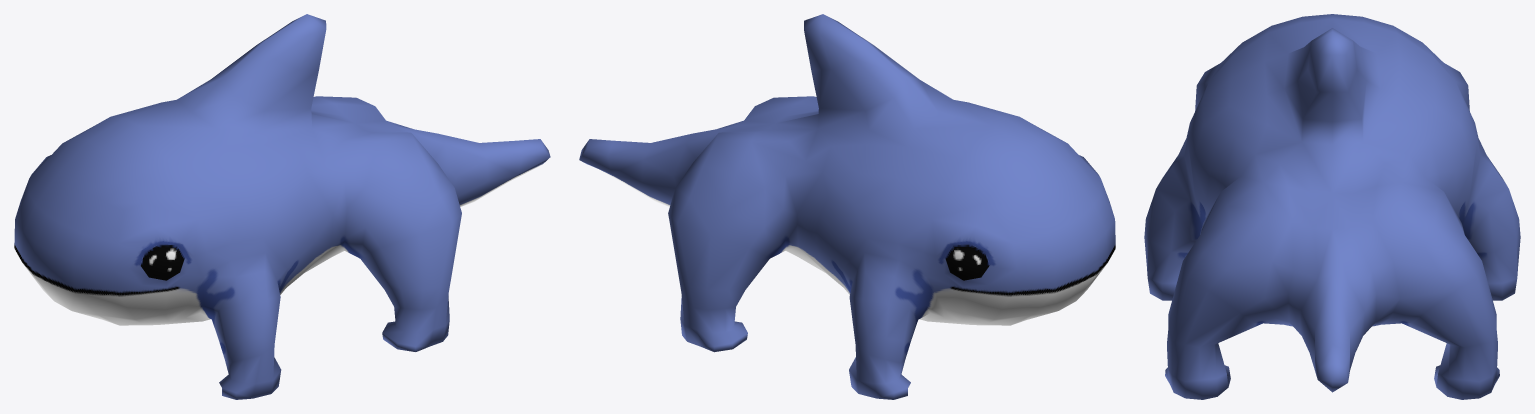
The model's file is dirtshoggy.fbx.
3 views of the same model, side by side, from view 1: azimuth 30°, elevation 25°; view 2: azimuth 150°, elevation 25°; view 3: azimuth 270°, elevation 25° (orthographic). The views are drawn at different scales.
Visible parts, largest first — view 1: shoggy_ground; view 2: shoggy_ground; view 3: shoggy_ground.
Boxes of the visible parts, bbox=[...] form: shoggy_ground: bbox=[14, 14, 550, 399]; shoggy_ground: bbox=[579, 14, 1115, 399]; shoggy_ground: bbox=[1144, 14, 1520, 399].
Bounding box in the file's own units: 999 × 540 × 566.
Materials: 1 (1 with a texture image).
